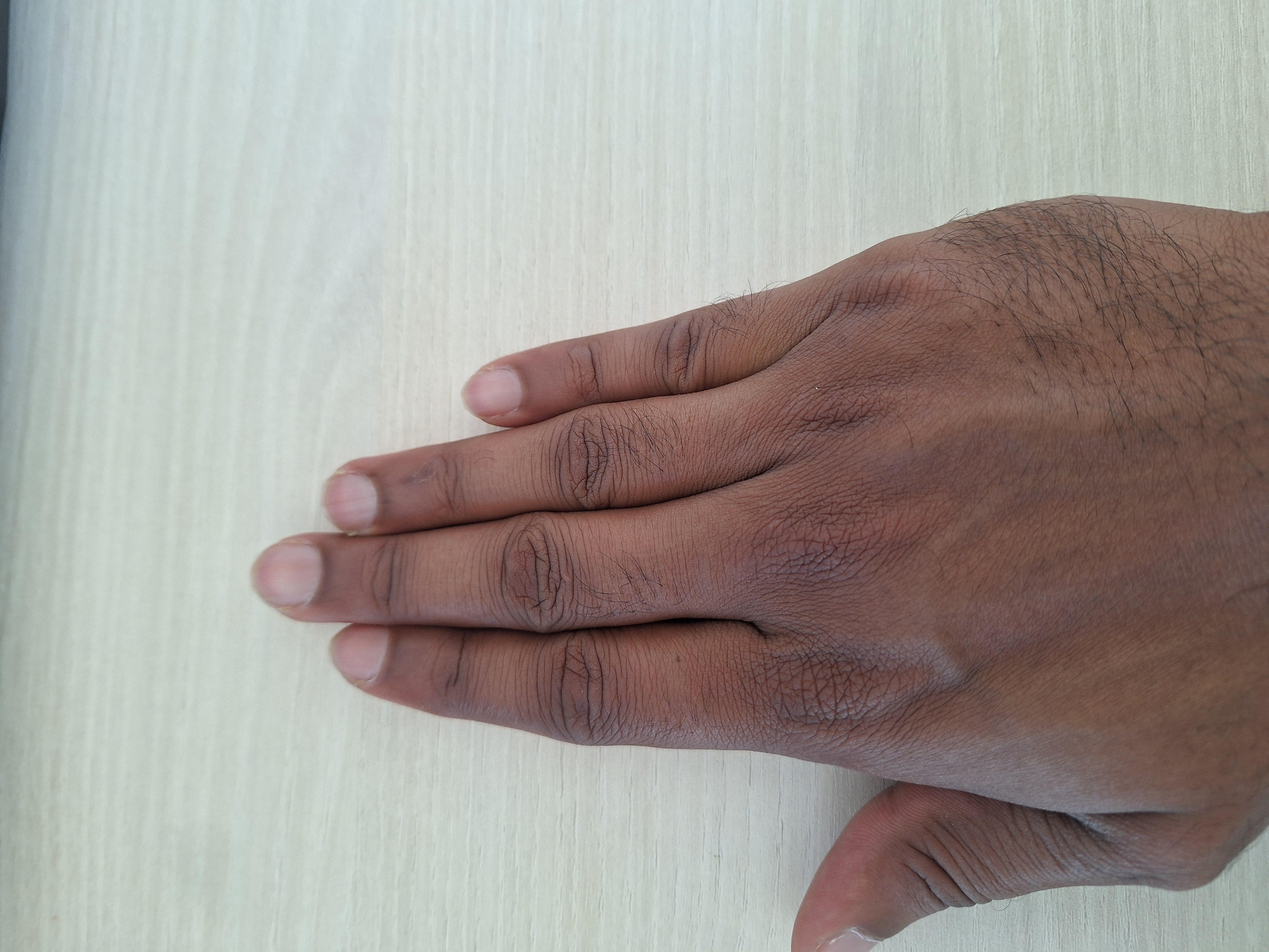Fingernail: (250, 542, 322, 608), (320, 472, 378, 532), (330, 625, 388, 680), (461, 370, 521, 418)
